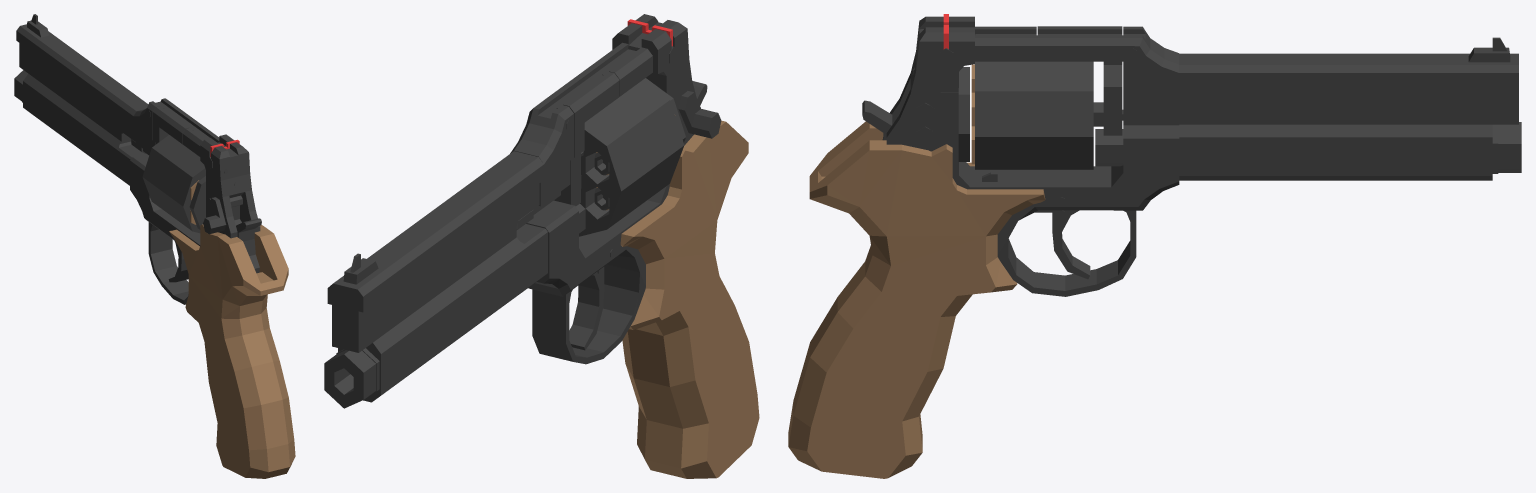
The model's file is pistol_13.glb.
The picture shows the model from 3 angles, left to right: view 1: azimuth 30°, elevation 25°; view 2: azimuth 150°, elevation 25°; view 3: azimuth 270°, elevation 25°; orthographic projection. The views are drawn at different scales.
Parts seen in each view (by area): view 1: p26_accent, p1_paint, p5_paint, p9_paint, p7_paint, p47_paint, p35_paint, p40_paint, p10_paint; view 2: p26_accent, p1_paint, p5_paint, p9_paint, p0_paint, p7_paint, p10_paint, p40_paint, p2_paint; view 3: p26_accent, p1_paint, p5_paint, p9_paint, p0_paint, p7_paint, p36_paint, p10_paint, p35_paint.
Boxes of the visible parts, x1=… form: p26_accent: x1=169, y1=224, x2=295, y2=478; p1_paint: x1=16, y1=24, x2=148, y2=185; p5_paint: x1=130, y1=98, x2=260, y2=304; p9_paint: x1=142, y1=135, x2=205, y2=233; p7_paint: x1=153, y1=106, x2=193, y2=144; p47_paint: x1=236, y1=218, x2=261, y2=273; p35_paint: x1=189, y1=176, x2=205, y2=229; p40_paint: x1=203, y1=197, x2=226, y2=234; p10_paint: x1=168, y1=241, x2=188, y2=282; p26_accent: x1=620, y1=120, x2=759, y2=478; p1_paint: x1=327, y1=151, x2=547, y2=402; p5_paint: x1=510, y1=14, x2=696, y2=364; p9_paint: x1=579, y1=80, x2=684, y2=236; p0_paint: x1=324, y1=204, x2=585, y2=408; p7_paint: x1=554, y1=71, x2=619, y2=206; p10_paint: x1=569, y1=267, x2=604, y2=350; p40_paint: x1=678, y1=91, x2=721, y2=138; p2_paint: x1=343, y1=258, x2=378, y2=284; p26_accent: x1=788, y1=121, x2=1045, y2=478; p1_paint: x1=1179, y1=53, x2=1518, y2=180; p5_paint: x1=886, y1=16, x2=1179, y2=296; p9_paint: x1=975, y1=61, x2=1093, y2=169; p0_paint: x1=1095, y1=122, x2=1521, y2=173; p7_paint: x1=1037, y1=26, x2=1122, y2=135; p36_paint: x1=929, y1=92, x2=958, y2=153; p10_paint: x1=1052, y1=210, x2=1090, y2=279; p35_paint: x1=958, y1=67, x2=969, y2=161.
Bounding box in the file's own units: 0.0394 × 0.1785 × 0.27.
